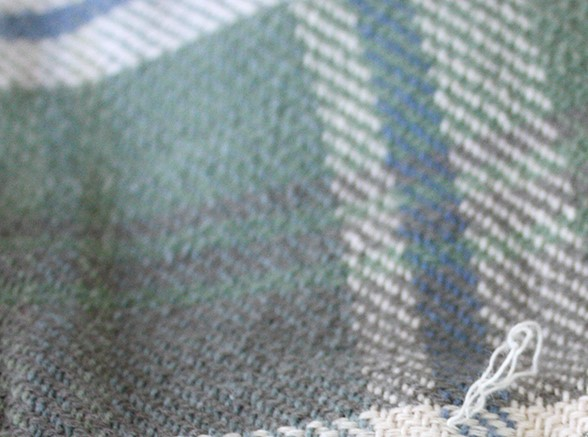snag: (434, 314, 550, 432)
